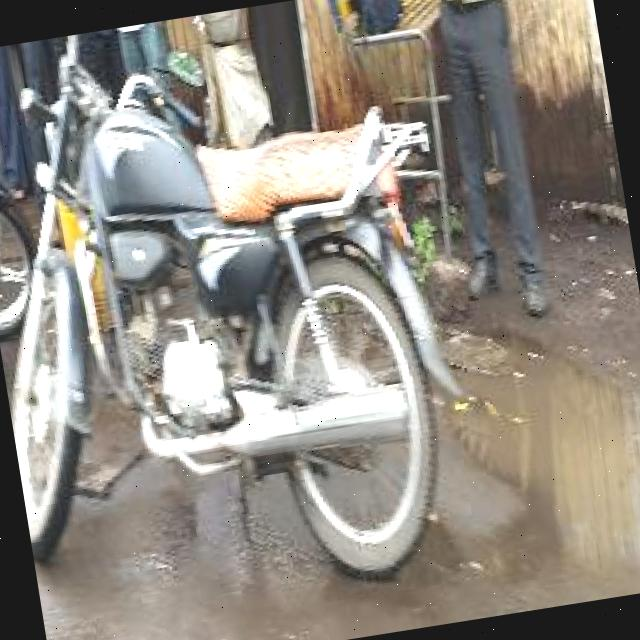stagnation: (457, 296, 640, 597)
